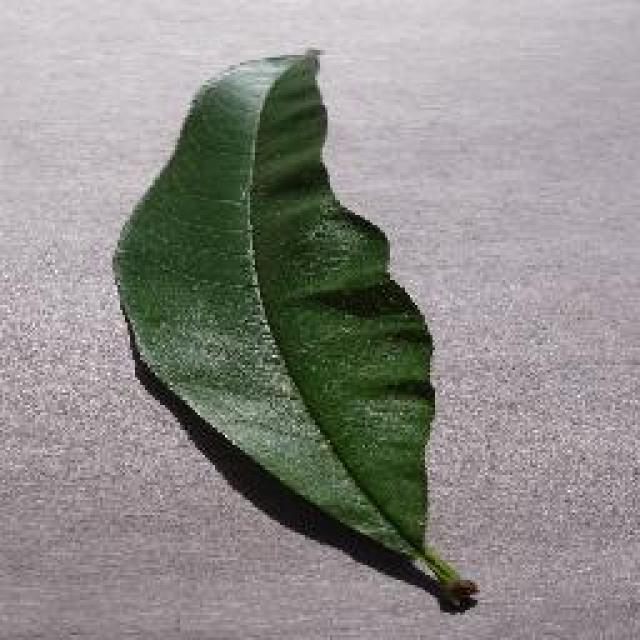Pea_healthy: (128, 80, 460, 515)
